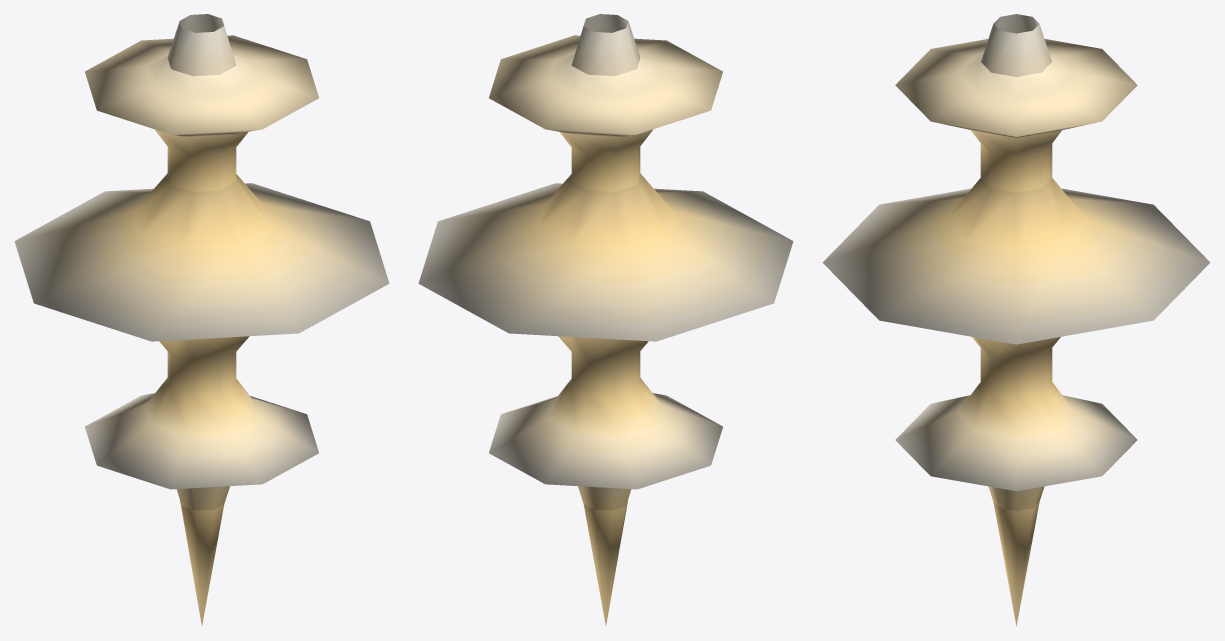
File: HangingLight_05.fbx
The picture shows the model from 3 angles, left to right: view 1: azimuth 30°, elevation 25°; view 2: azimuth 150°, elevation 25°; view 3: azimuth 270°, elevation 25°; orthographic projection.
Parts seen in each view (by area): view 1: CylidricalHangingLight.001; view 2: CylidricalHangingLight.001; view 3: CylidricalHangingLight.001.
Part boxes in pixels (x1,y1,x2,y2): CylidricalHangingLight.001: (14, 14, 389, 625); CylidricalHangingLight.001: (418, 14, 793, 625); CylidricalHangingLight.001: (822, 14, 1210, 626).
Size of the model in its own units: 138 by 237 by 138.
